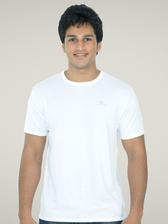clothoes: (18, 66, 149, 223)
